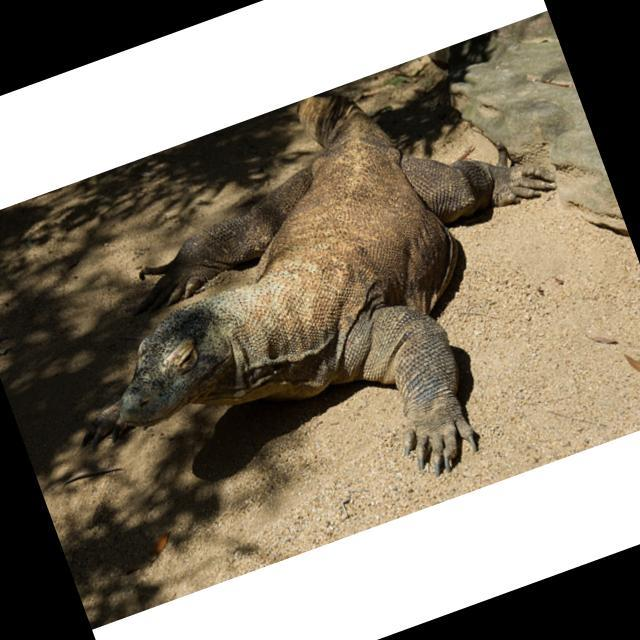KomodoDragon: (11, 27, 639, 582)
